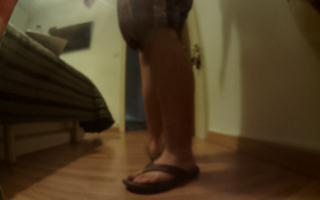person: (107, 1, 217, 195)
